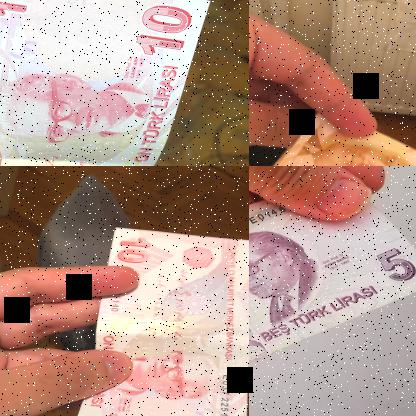5 TL: (0, 0, 213, 165)
